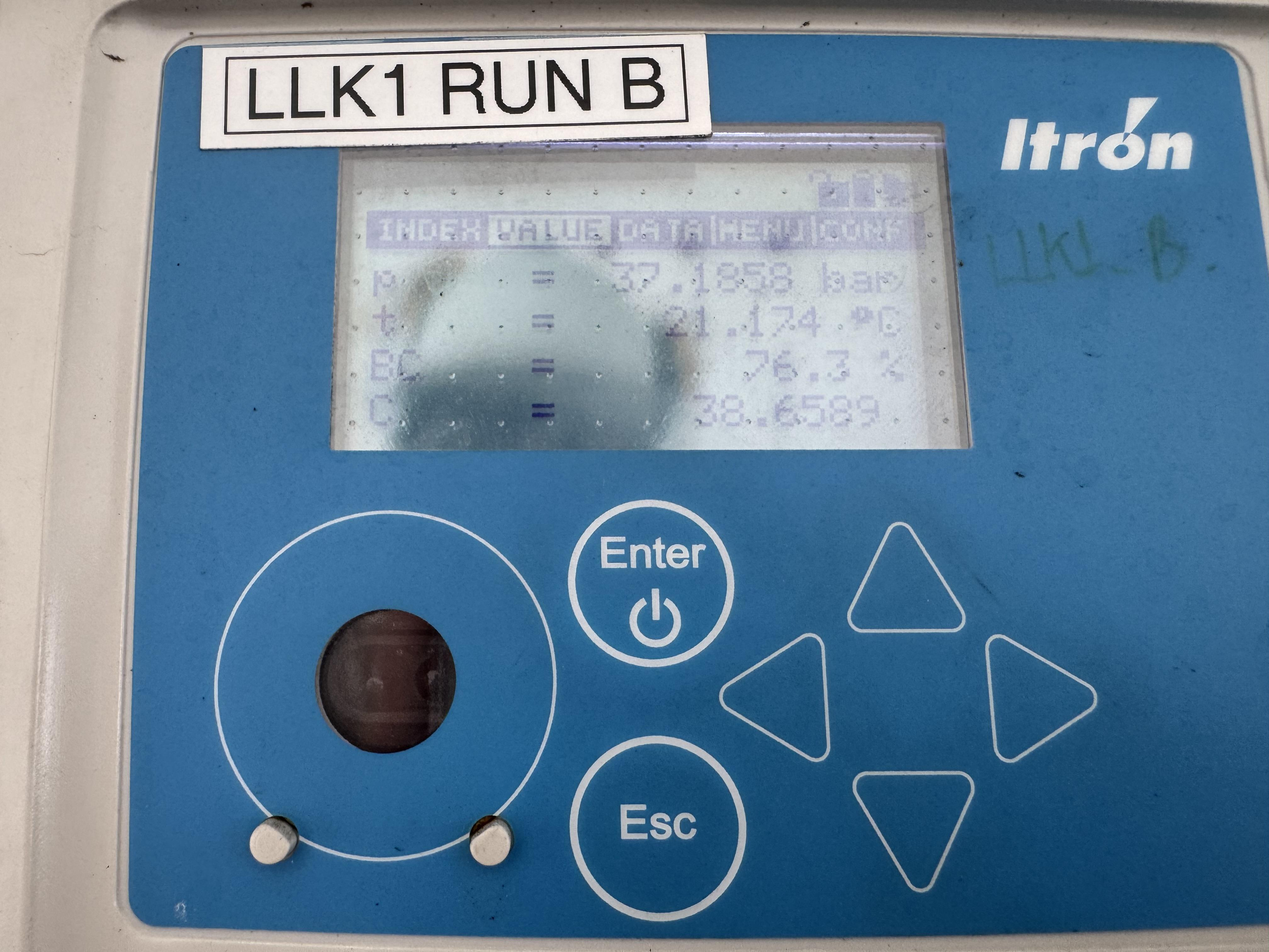digital_screen: (328, 124, 973, 452)
